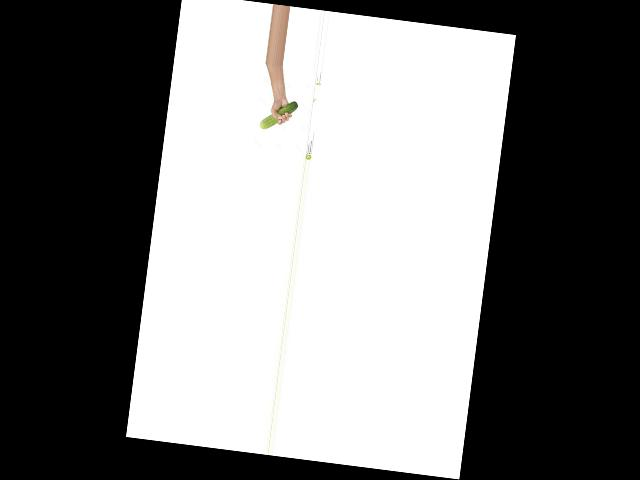cucumber: (259, 96, 299, 132)
